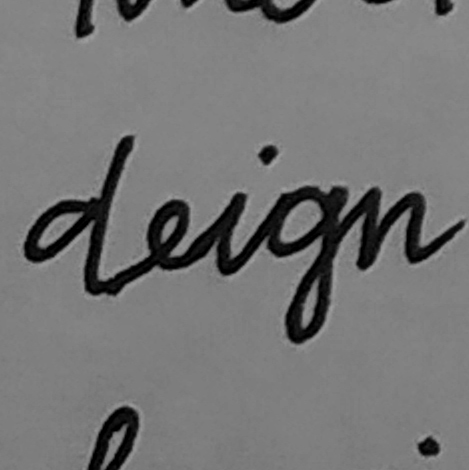d: (18, 129, 136, 301)
e: (140, 193, 198, 279)
g: (261, 180, 352, 348)
i: (208, 184, 253, 282)
n: (353, 182, 430, 274)
